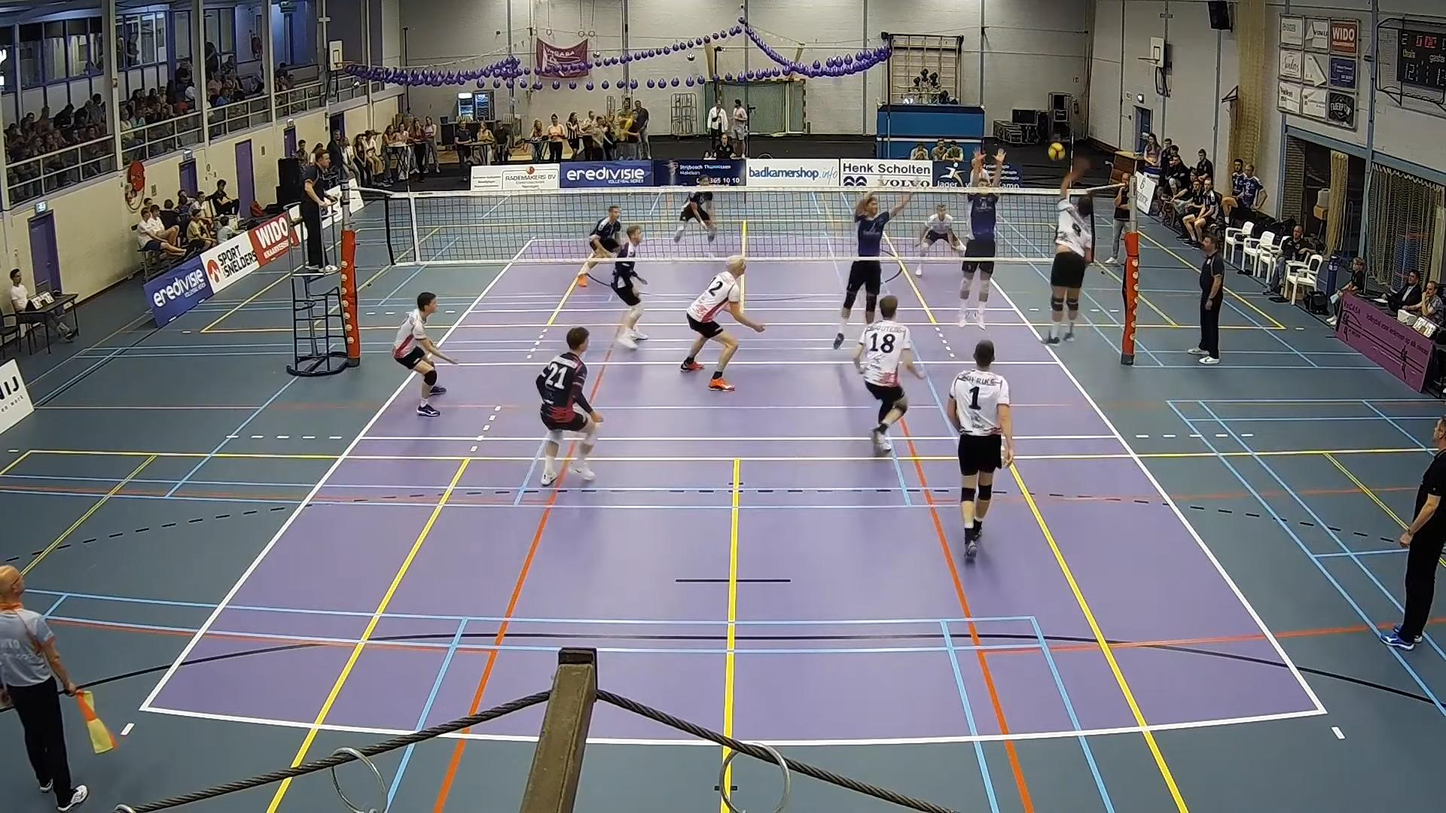Attack: (1040, 163, 1091, 347)
Block: (832, 189, 914, 349), (956, 144, 1004, 330)
Player: (947, 340, 1013, 557), (680, 256, 764, 391), (853, 295, 923, 452), (535, 327, 602, 486), (392, 292, 457, 416), (610, 224, 647, 349), (578, 206, 622, 286), (914, 203, 962, 276), (673, 176, 716, 242)
ball: (1047, 140, 1062, 157)
